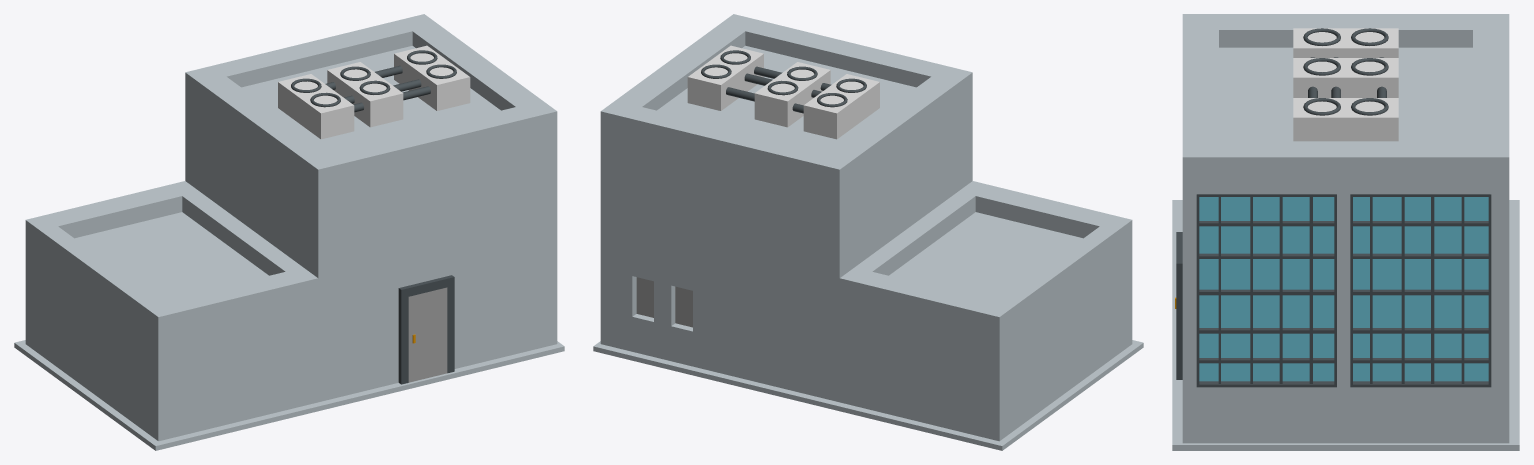
The model's file is SecondaryBuilding.fbx.
3 views of the same model, side by side, from view 1: azimuth 30°, elevation 25°; view 2: azimuth 150°, elevation 25°; view 3: azimuth 270°, elevation 25° (orthographic). The views are drawn at different scales.
Parts seen in each view (by area): view 1: pasted__pCube14, pasted__pCube1, pasted__pCube125, pasted__pCube3, pasted__pCube5, pasted__pCube4, pasted__pCube6; view 2: pasted__pCube14, pasted__pCube1, pasted__pCube3, pasted__pCube5, pasted__pCube4, pasted__pCube127; view 3: pasted__pCube14, pasted__pCube124, pasted__pCube1, pasted__pCube5, pasted__pCube4, pasted__pCube3, pasted__pCube25, pasted__pCube26, pasted__pCube23, pasted__pCube27, pasted__pCube24, pasted__pCube6 (+16 smaller).
Part boxes in pixels (left/top/right/bottom): pasted__pCube14: left=25, top=14, right=557, bottom=441; pasted__pCube1: left=14, top=340, right=564, bottom=450; pasted__pCube125: left=408, top=287, right=447, bottom=382; pasted__pCube3: left=278, top=74, right=354, bottom=139; pasted__pCube5: left=394, top=45, right=470, bottom=110; pasted__pCube4: left=327, top=62, right=403, bottom=127; pasted__pCube6: left=398, top=275, right=454, bottom=384; pasted__pCube14: left=600, top=14, right=1132, bottom=441; pasted__pCube1: left=593, top=340, right=1143, bottom=450; pasted__pCube3: left=803, top=74, right=879, bottom=139; pasted__pCube5: left=687, top=45, right=763, bottom=110; pasted__pCube4: left=754, top=62, right=830, bottom=127; pasted__pCube127: left=636, top=277, right=692, bottom=327; pasted__pCube14: left=1182, top=14, right=1509, bottom=443; pasted__pCube124: left=1199, top=197, right=1488, bottom=381; pasted__pCube1: left=1172, top=200, right=1519, bottom=450; pasted__pCube5: left=1293, top=98, right=1398, bottom=141; pasted__pCube4: left=1293, top=58, right=1398, bottom=97; pasted__pCube3: left=1293, top=28, right=1398, bottom=57; pasted__pCube25: left=1199, top=289, right=1488, bottom=295; pasted__pCube26: left=1199, top=328, right=1488, bottom=333; pasted__pCube23: left=1199, top=221, right=1488, bottom=226; pasted__pCube27: left=1199, top=358, right=1488, bottom=363; pasted__pCube24: left=1199, top=253, right=1488, bottom=258; pasted__pCube6: left=1176, top=232, right=1182, bottom=379.
Bounding box in the file's own units: 5.82 × 3.42 × 3.49.
